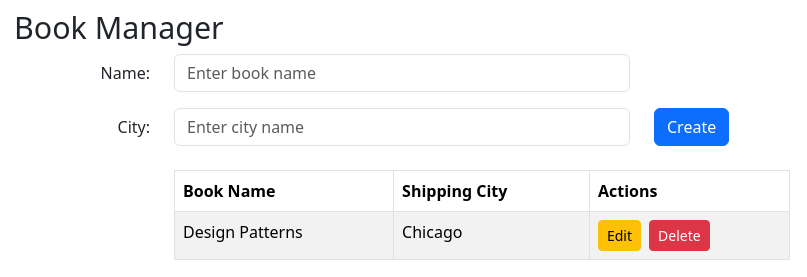
Test: BookManager Component › delete a book
Expected: the text "Design Patterns" is shown, [174,211,394,259]
Step 1. Click the button "Delete" → (679, 235), box [649,220,710,250]
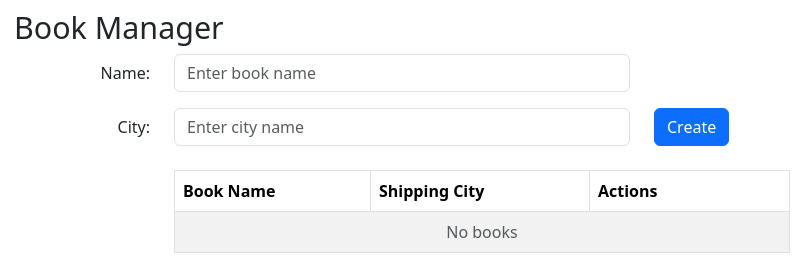
Result: the text "Design Patterns" is gone
